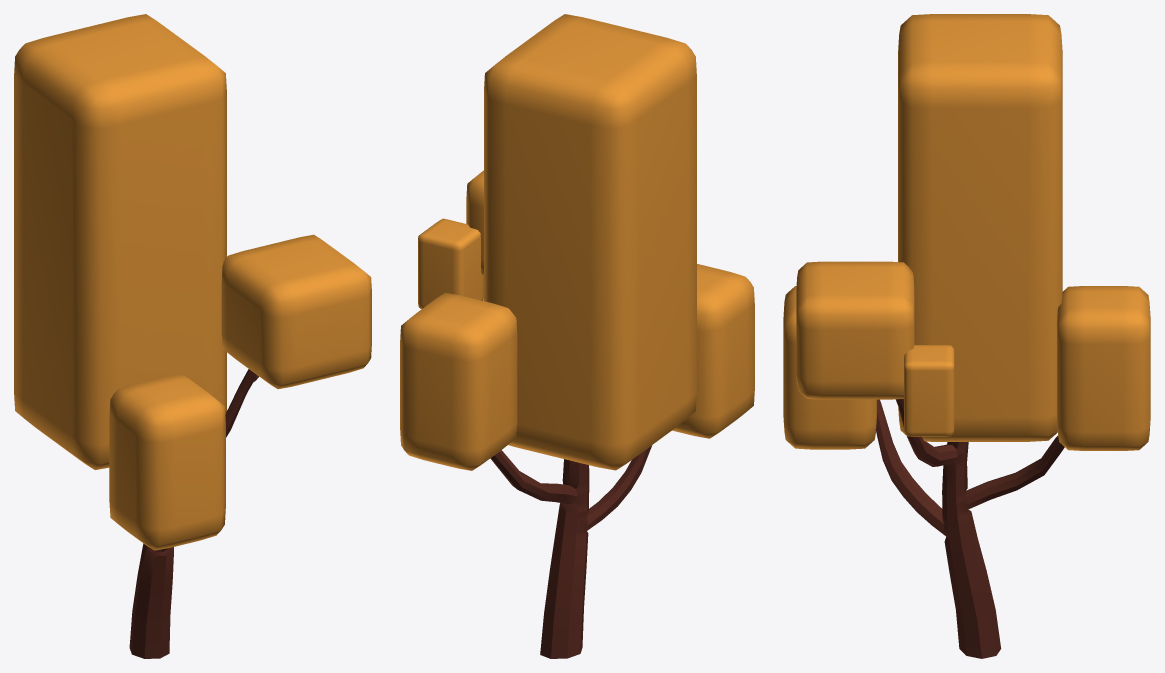
Rendered from Tree1.fbx.
3 renders of one model, left to right at view 1: azimuth 30°, elevation 25°; view 2: azimuth 150°, elevation 25°; view 3: azimuth 270°, elevation 25°, orthographic. The views are drawn at different scales.
Visible parts, largest first — view 1: Cylinder.004; view 2: Cylinder.004; view 3: Cylinder.004.
Boxes of the visible parts, <box> form: Cylinder.004: <box>14,14,371,658</box>; Cylinder.004: <box>400,14,754,658</box>; Cylinder.004: <box>783,14,1150,658</box>.
Size of the model in its own units: 1031 by 2296 by 1285.
